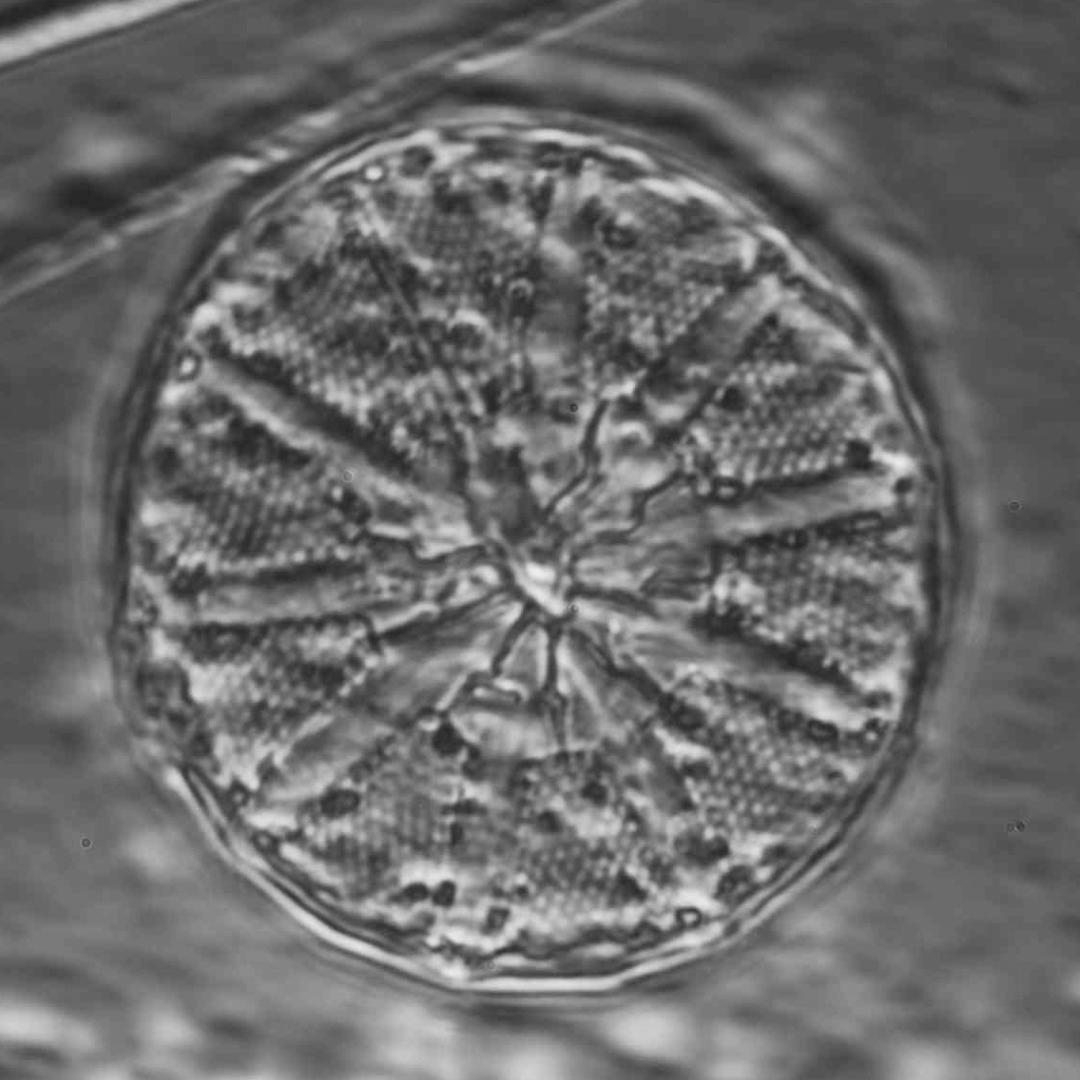asteromphalus_hyalinus: (111, 121, 950, 984)
